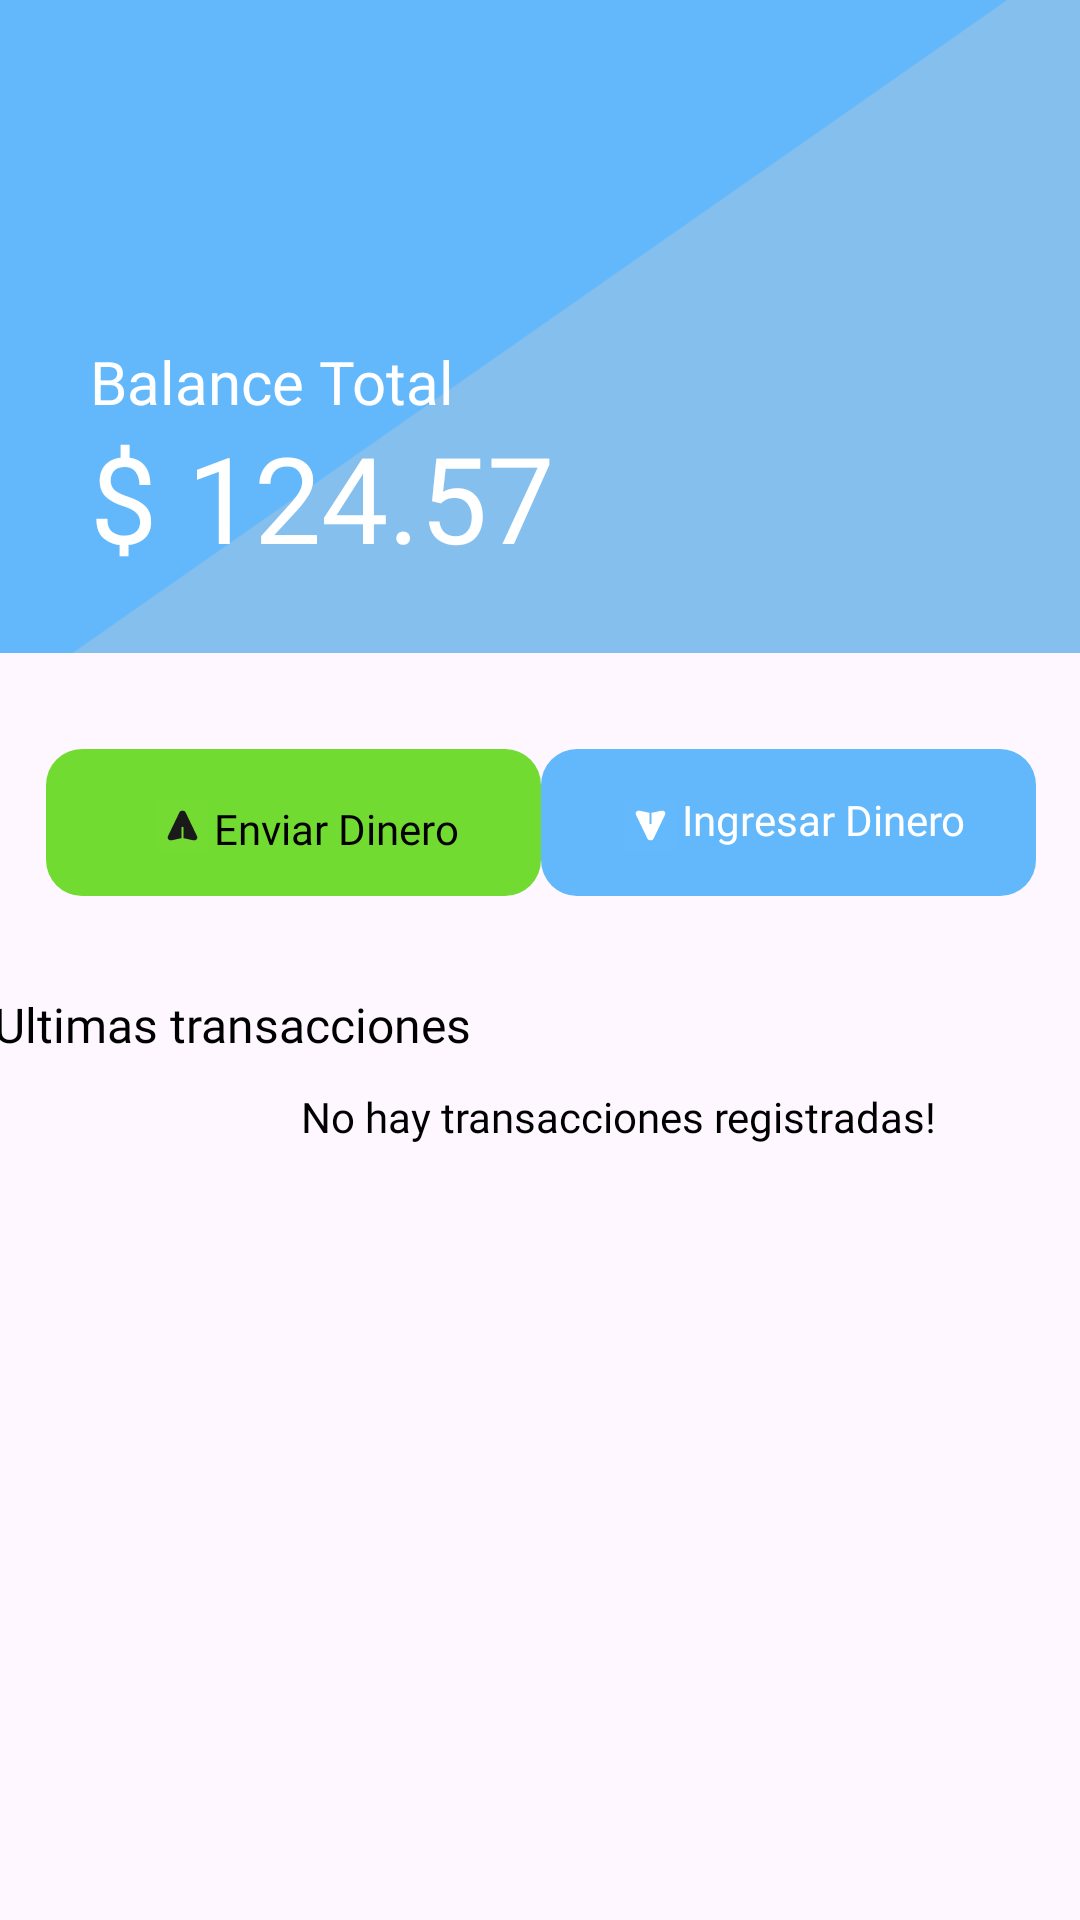

Where icons sit on this 1080 × 1920 app screen, as BBox(x1, y1, x2, y2):
request: BBox(635, 810, 666, 841)
send: BBox(167, 810, 198, 841)
